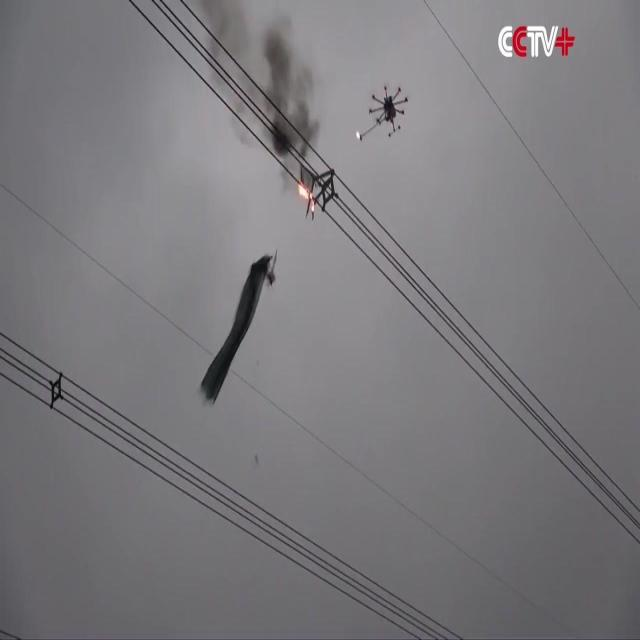drone: (368, 82, 408, 142)
